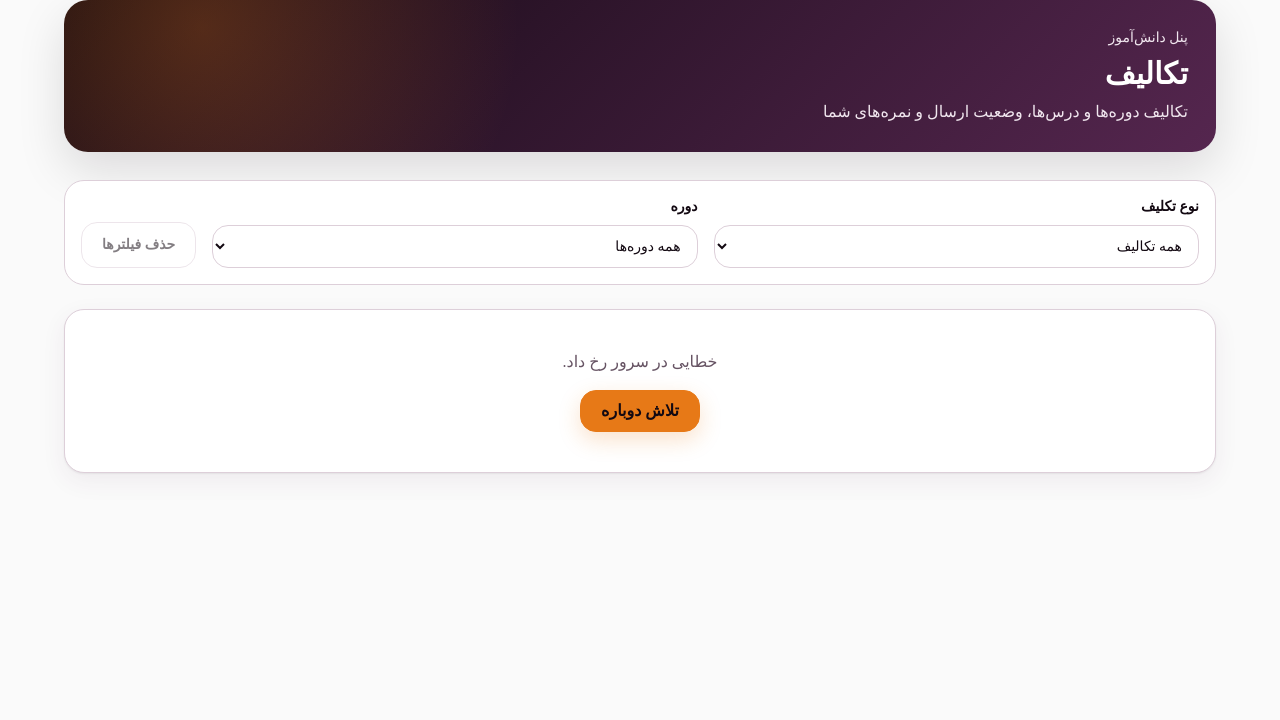
Scenario: HomeworkListPage › shows the API error and retries on demand
The width and height of the screenshot is (1280, 720).
Check: the text "خطایی در سرور رخ داد." is shown, box [562,353,718,370]
What coordinates should you click on to do the following:
click the button "تلاش دوباره"
I would click on:
 (640, 411)
Its box is [580,390,700,432].
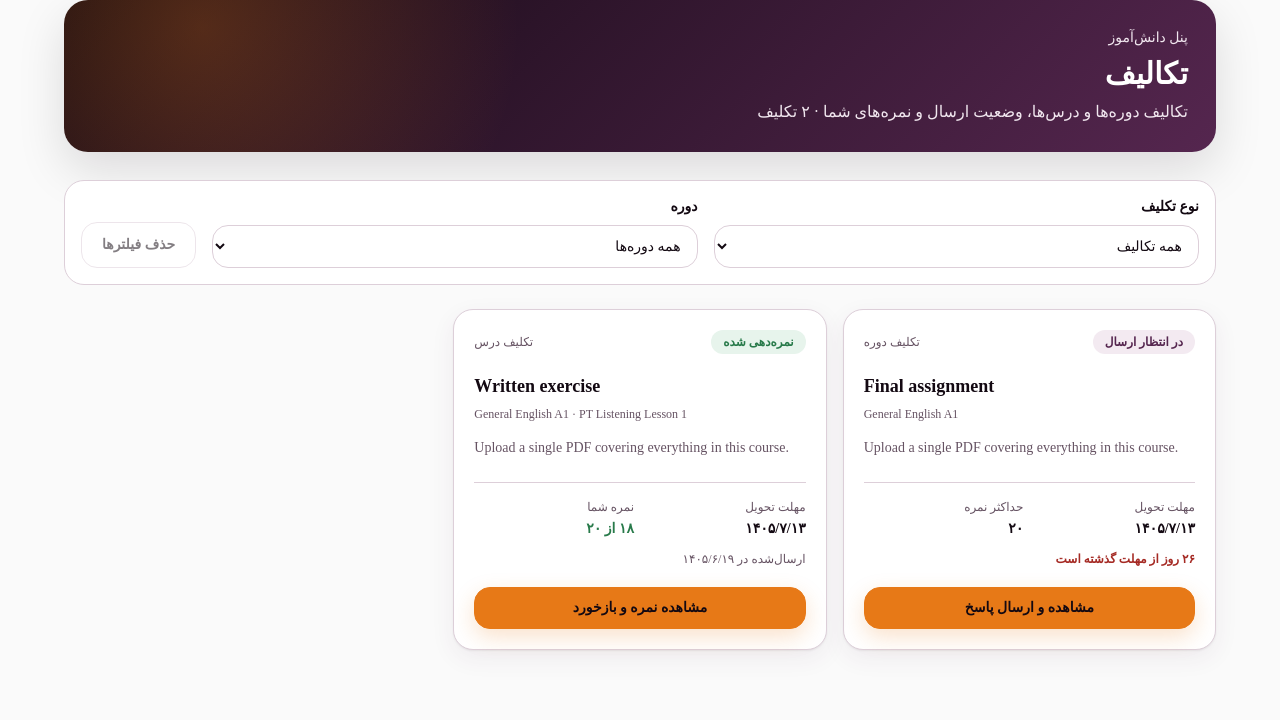
Check: the heading "Final assignment" is shown, box [864,376,994,396]
